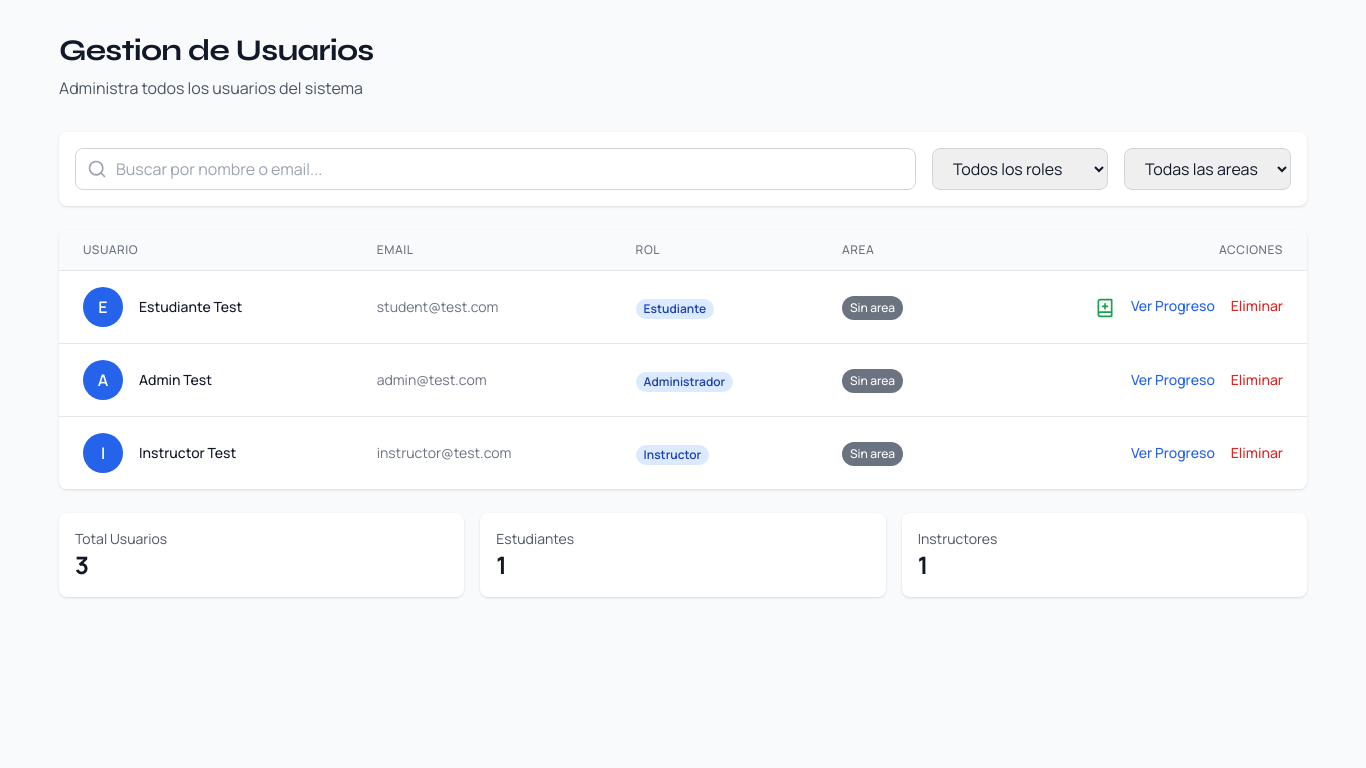
Test: UsersList Page › Search and Filter › should filter users by search term
Expected: the text "Estudiante Test" is shown, 139,297 -> 242,317
Type "admin" into the field with placeholder "Buscar por nombre o email..." at (496, 169), box 75,148 -> 916,190
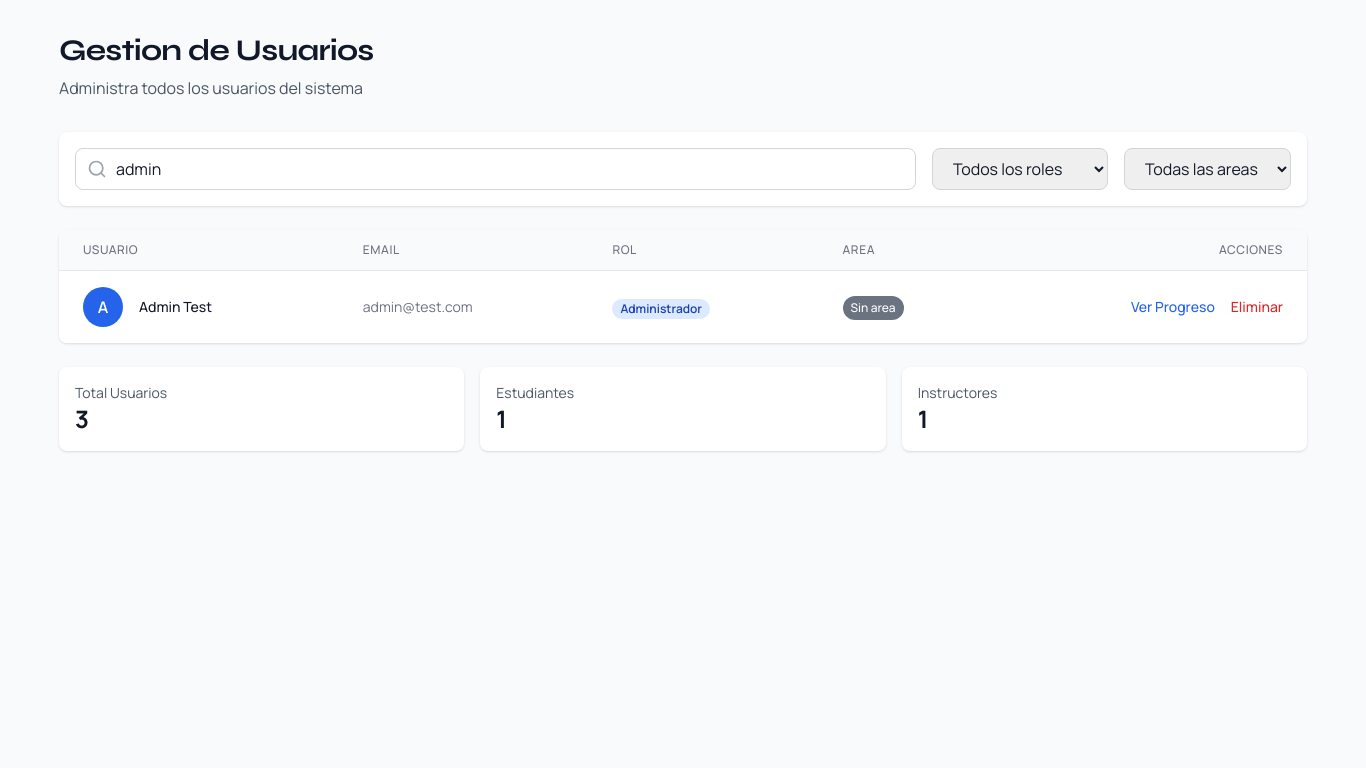
Expected: the text "Admin Test" is shown, 139,297 -> 212,317
Expected: the text "Estudiante Test" is gone
